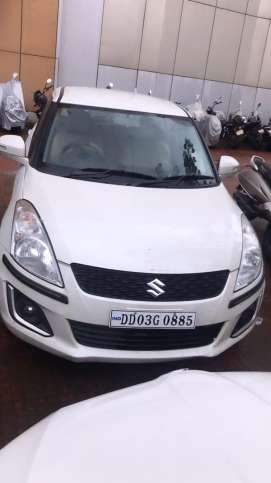license_plate: (110, 309, 198, 331)
